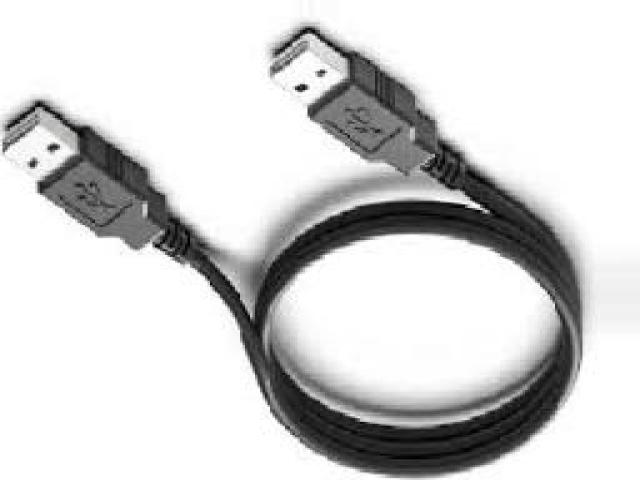wire: (0, 22, 588, 474)
